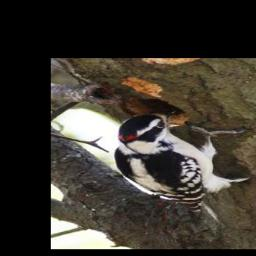Woodpecker: (114, 109, 250, 219)
